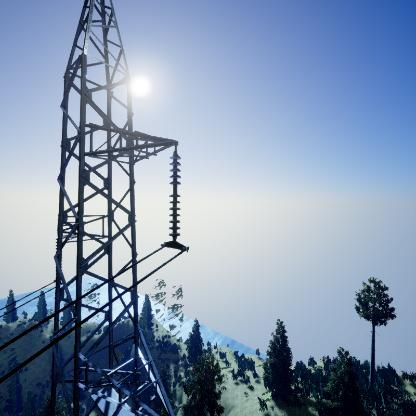insulator: (168, 153, 182, 241)
